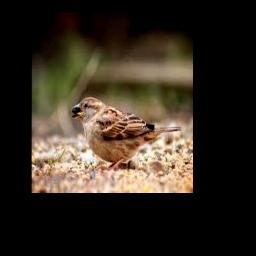Sparrow: (72, 96, 182, 170)
